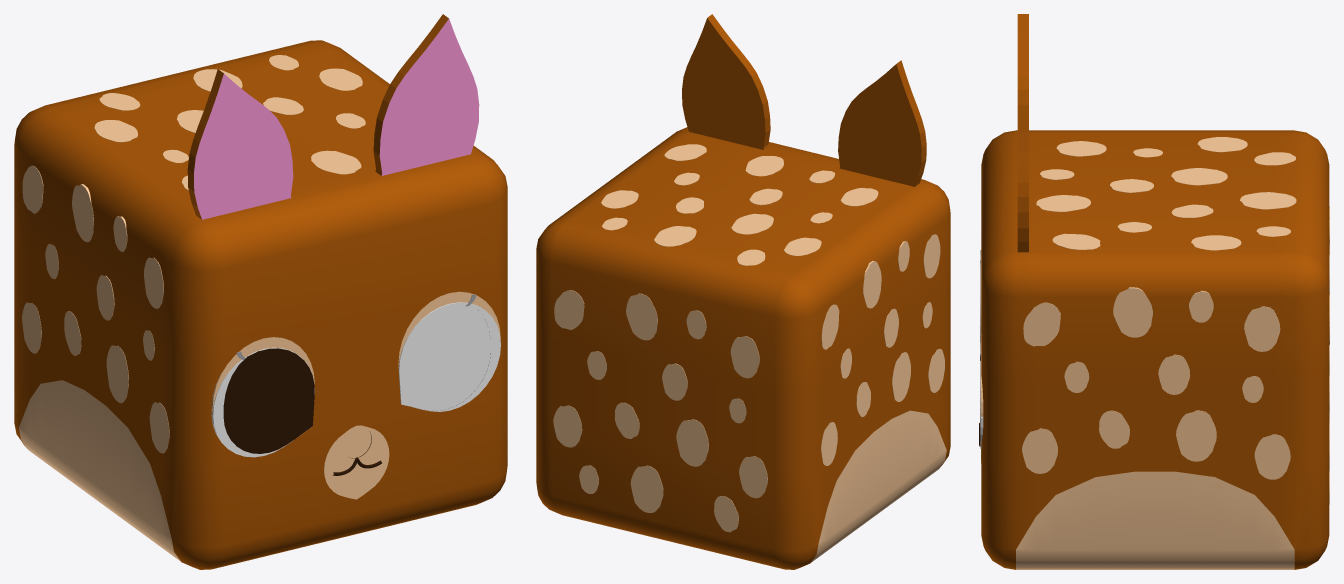
Rendered from Fawn.fbx.
The picture shows the model from 3 angles, left to right: view 1: azimuth 30°, elevation 25°; view 2: azimuth 150°, elevation 25°; view 3: azimuth 270°, elevation 25°; orthographic projection. The views are drawn at different scales.
Visible parts, largest first — view 1: Fawn; view 2: Fawn; view 3: Fawn.
Boxes of the visible parts, x1=… form: Fawn: x1=14, y1=14, x2=507, y2=569; Fawn: x1=536, y1=14, x2=950, y2=569; Fawn: x1=979, y1=14, x2=1329, y2=569.
Size of the model in its own units: 201 by 281 by 202.
